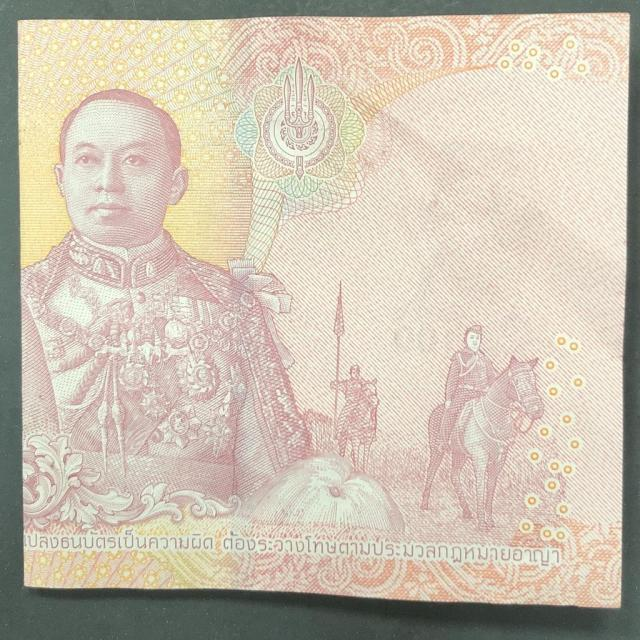THAI100: (16, 13, 632, 613)
